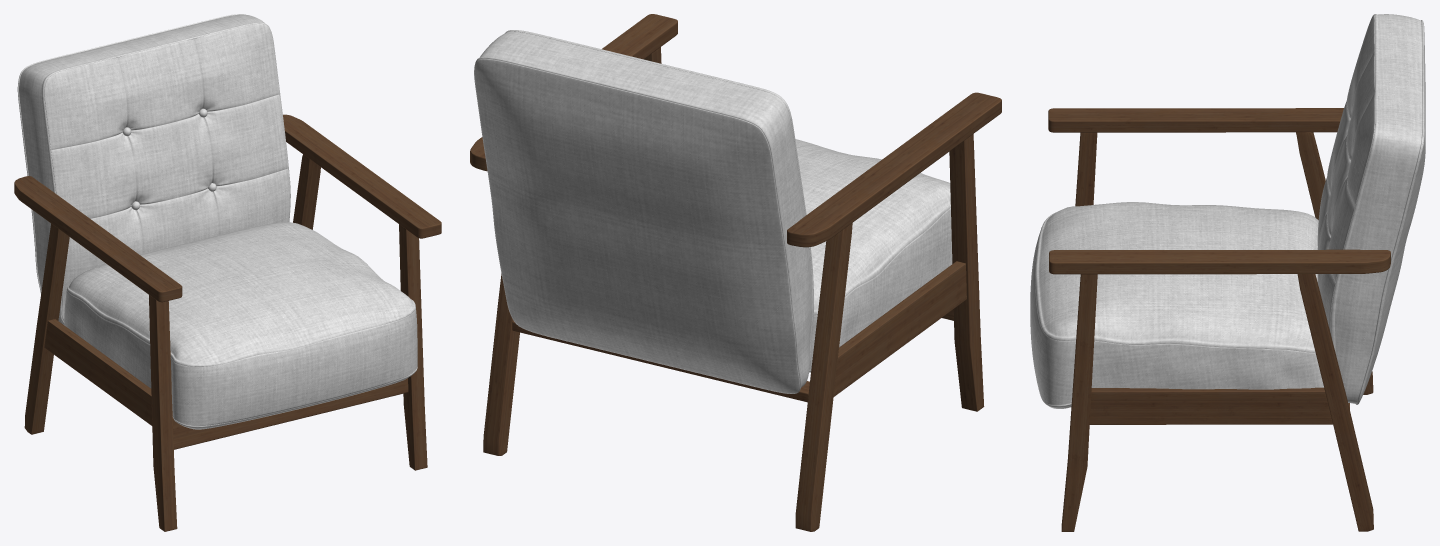
Rendered from armchair-low-001.glb.
3 views of the same model, side by side, from view 1: azimuth 30°, elevation 25°; view 2: azimuth 150°, elevation 25°; view 3: azimuth 270°, elevation 25° (orthographic). The views are drawn at different scales.
Visible parts, largest first — view 1: Fabric, Wood; view 2: Fabric, Wood; view 3: Fabric, Wood.
Boxes of the visible parts, x1,y1,x2,y2 form: Fabric: [17, 14, 417, 429]; Wood: [14, 114, 441, 531]; Fabric: [474, 30, 952, 393]; Wood: [470, 14, 1001, 531]; Fabric: [1030, 14, 1425, 408]; Wood: [1048, 108, 1390, 531].
Bounding box in the file's own units: 0.5902 × 0.6943 × 0.6366.
2 materials, 2 textured.
